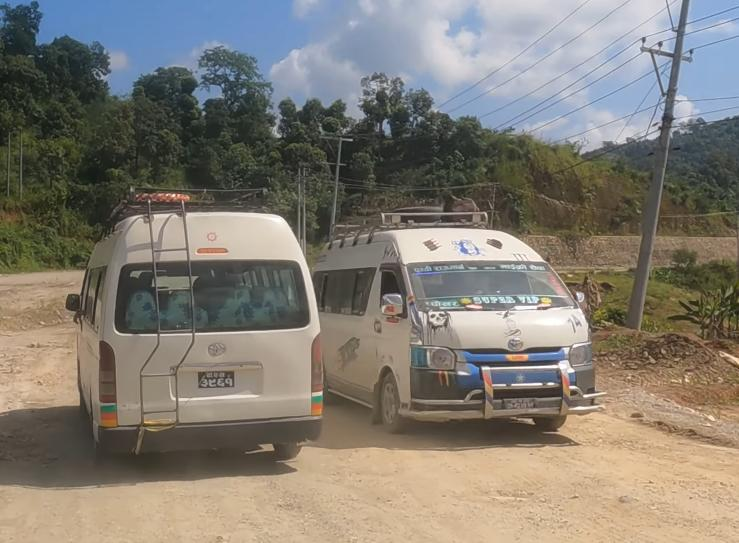micro_bus: (53, 189, 330, 479), (302, 211, 608, 441)
